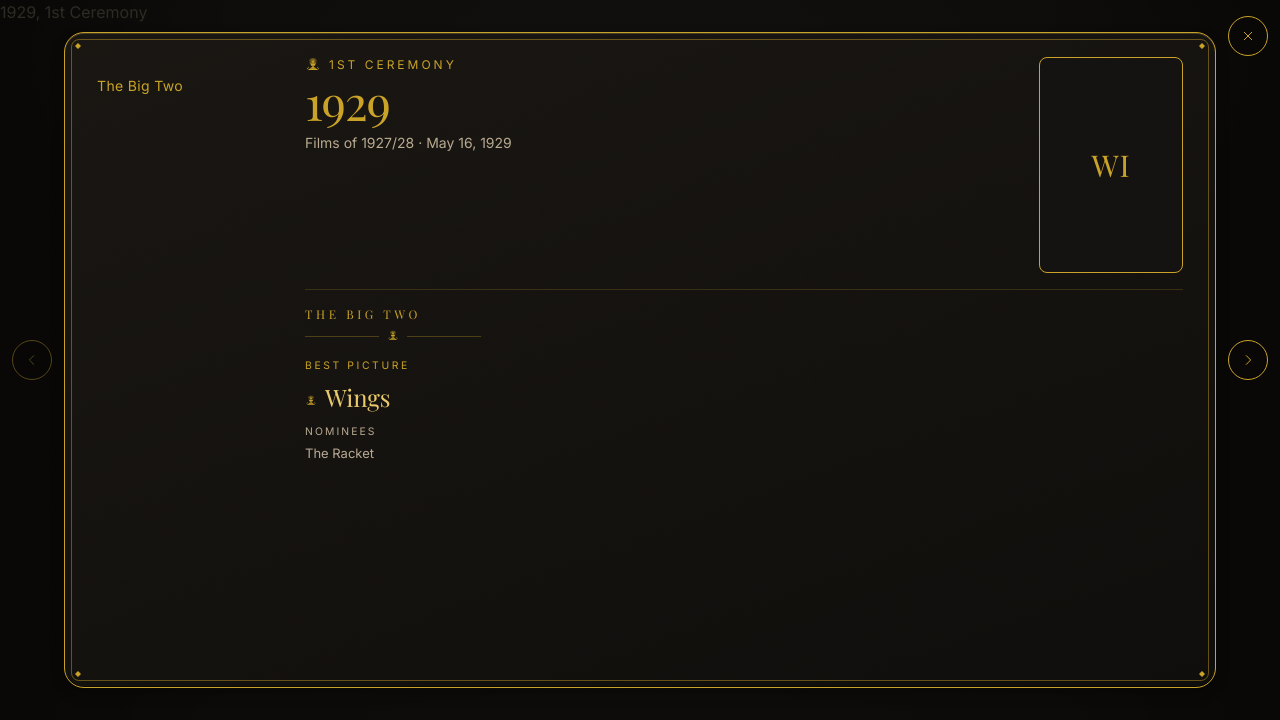
Test: CeremonyOverlay › closes when clicking the backdrop and restores focus to the origin card
This screenshot has width=1280, height=720.
Press the mouse on the dialog at (640,360), box x1=0 y1=0 x2=1279 y2=719
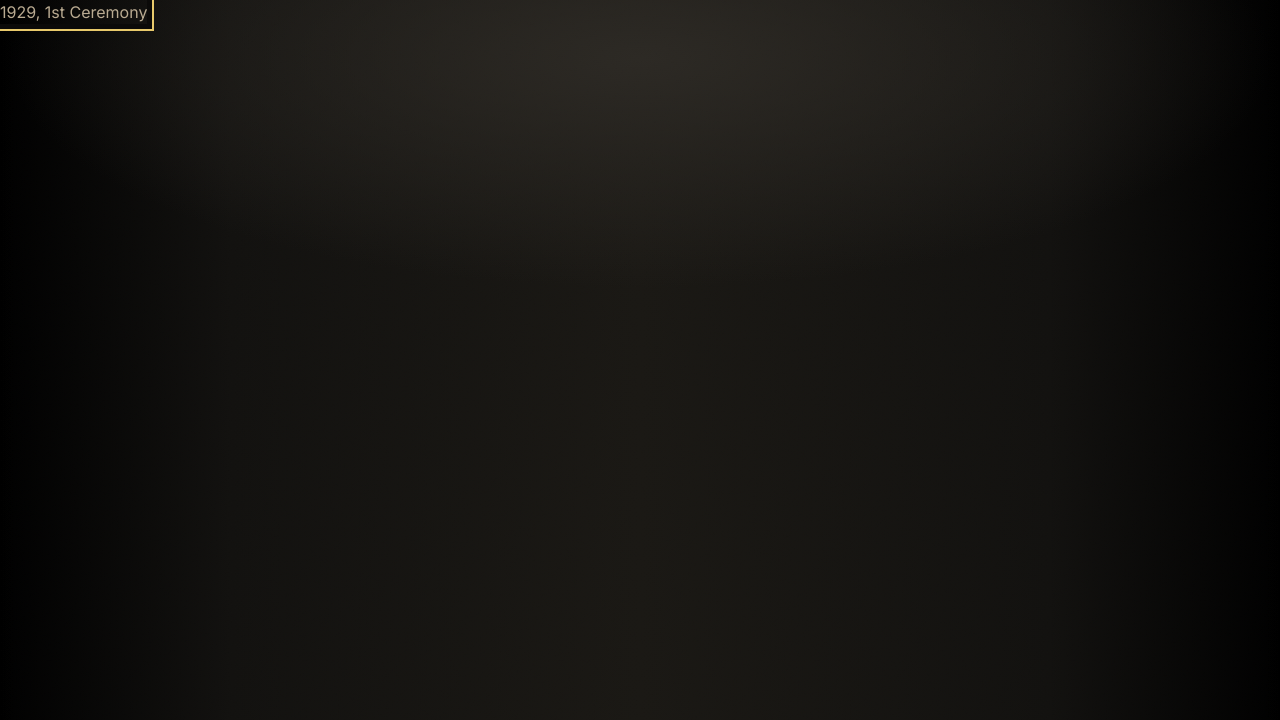
Result: the dialog is gone
